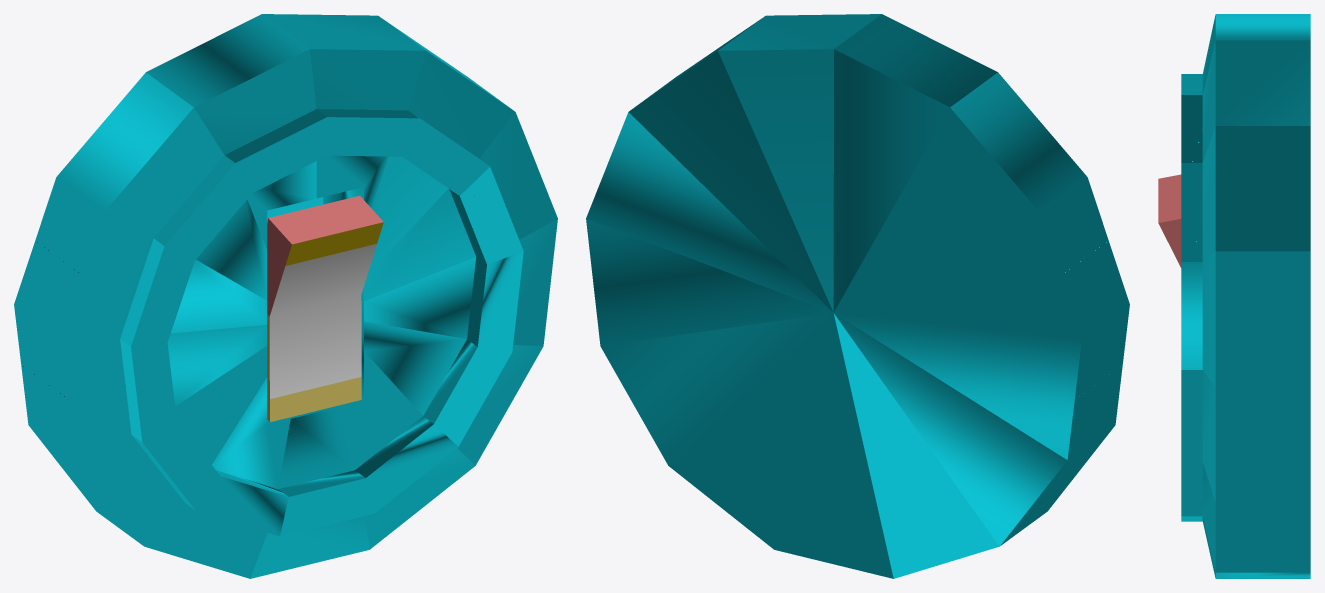
The model's file is switch.fbx.
3 renders of one model, left to right at view 1: azimuth 30°, elevation 25°; view 2: azimuth 150°, elevation 25°; view 3: azimuth 270°, elevation 25°, orthographic.
Visible parts, largest first — view 1: base, switch; view 2: base; view 3: base, switch.
Part boxes in pixels (x1,y1,x2,y2): base: (14, 14, 557, 578); switch: (267, 195, 383, 421); base: (586, 14, 1129, 578); base: (1181, 14, 1310, 578); switch: (1158, 174, 1181, 267).
Size of the model in its own units: 19.05 by 18.91 by 5.12.
